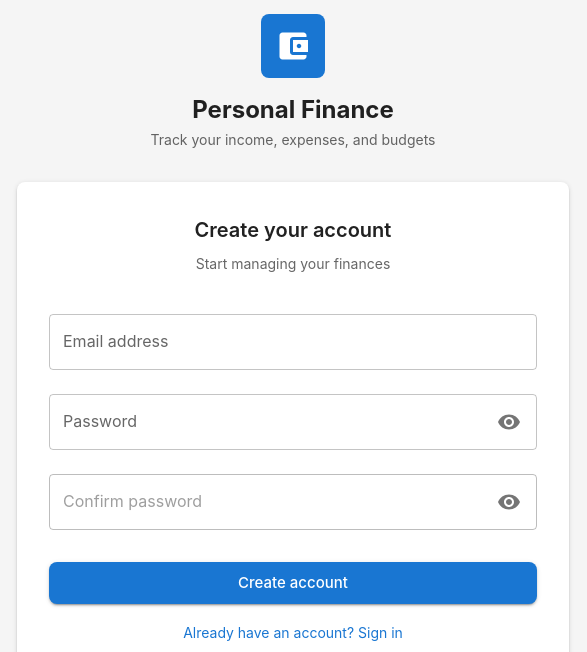
Scenario: User Registration › Form Validation › should show error for invalid email format
Type "invalid-email" into the field named "Email address" at (293, 342), box [49, 314, 537, 370]
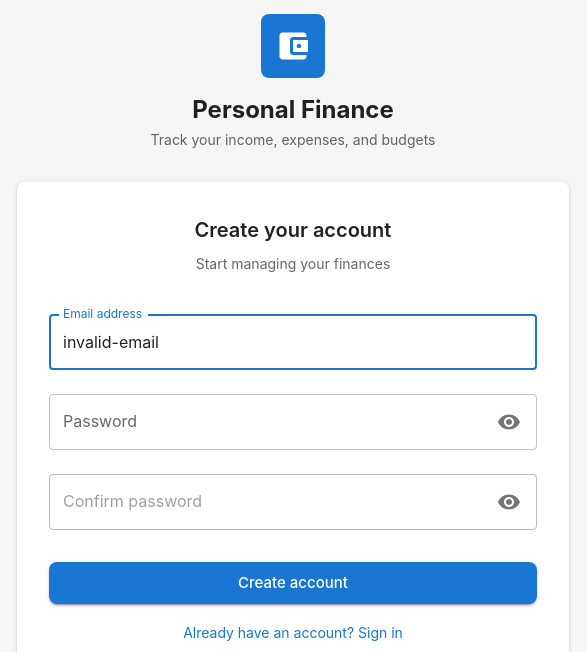
Type "SecurePass123!" into the password field named "Password" at (267, 422), box [49, 394, 484, 450]
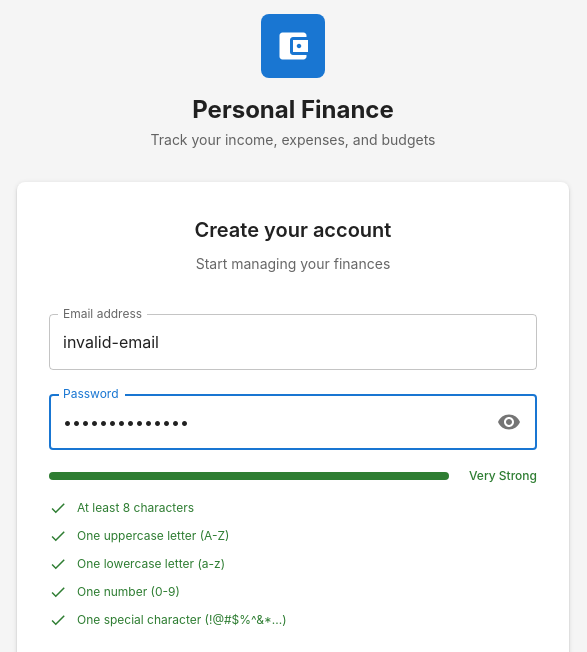
Scroll
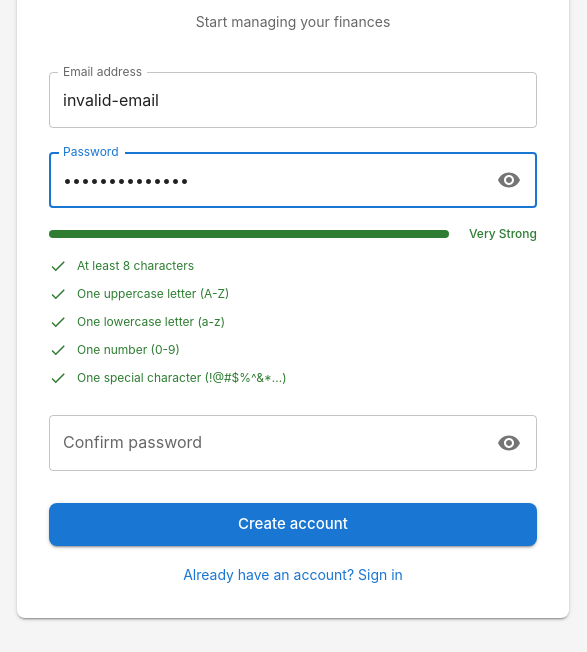
Type "SecurePass123!" into the password field named "Confirm password" at (267, 444), box [49, 416, 484, 472]
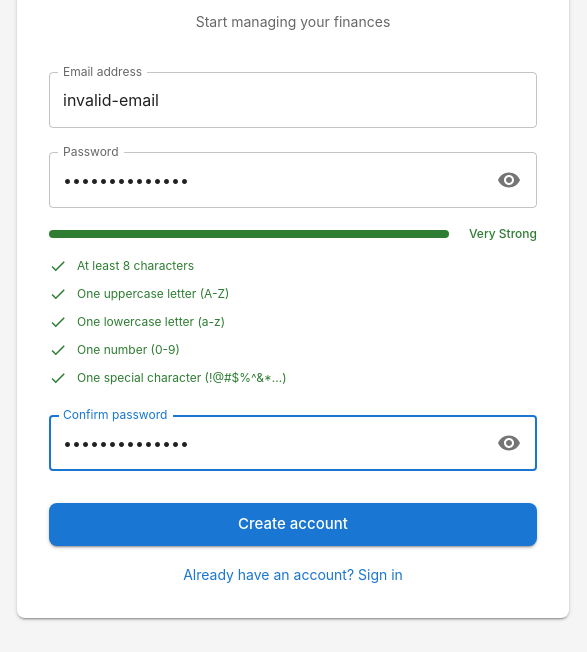
Click the button "Create account" at (293, 525), box [49, 504, 537, 546]
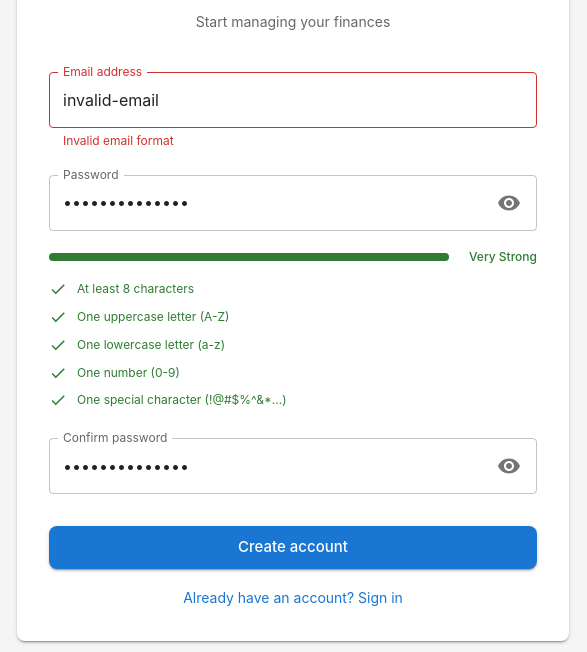
Expected: the text "Invalid email" is shown, [63, 133, 174, 148]
